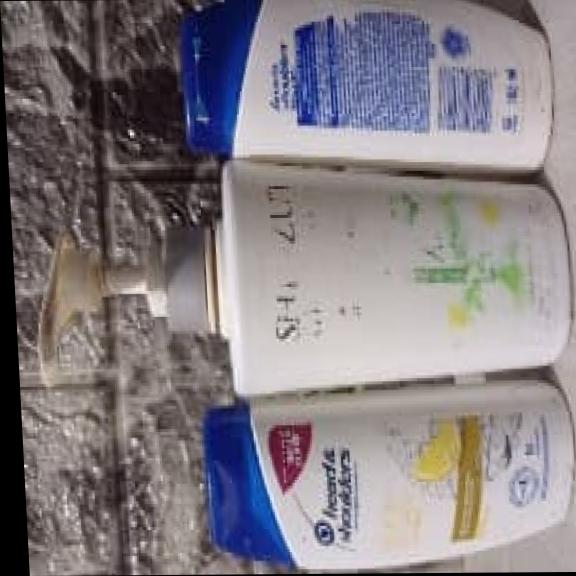Plastik: (38, 161, 570, 393), (207, 380, 573, 565), (180, 0, 552, 167)
